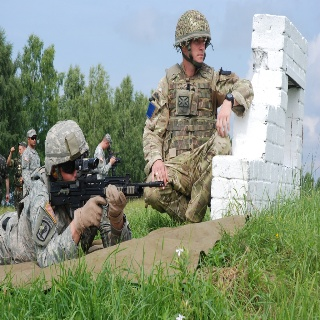rifle: (50, 155, 167, 225)
